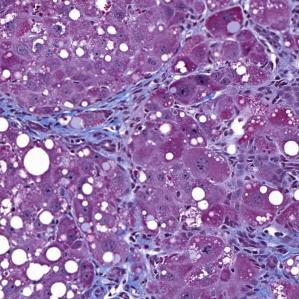fibrosis: (76, 93, 161, 159), (219, 53, 297, 122), (225, 220, 295, 282), (124, 214, 194, 273)
